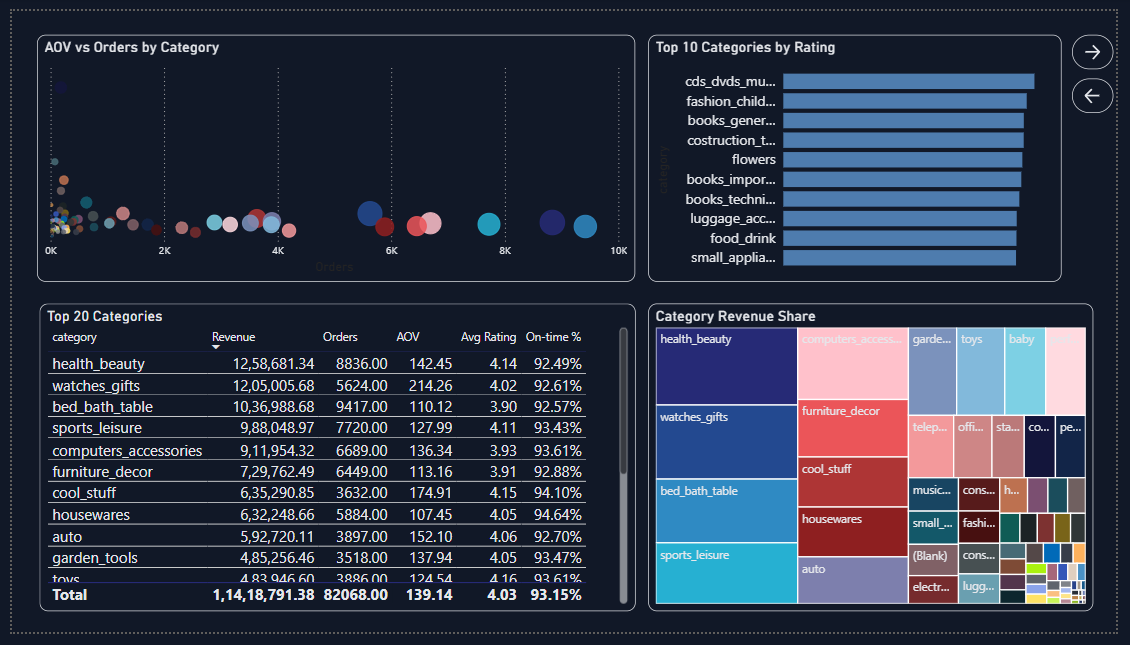

What the dashboard file says about the page in this screenshot:
{"tool":"powerbi","page":{"name":"Category & Product","canvas":[1280,720],"ordinal":3},"visuals":[{"type":"treemap","title":"Category Revenue Share","fields":{"Group":["public bi_fact_sales.category"],"Values":["public bi_fact_sales.Revenue"]},"box":[737.4,338.7,516,357.1],"z":0},{"type":"scatterChart","title":"AOV vs Orders by Category","fields":{"X":["public bi_fact_sales.Orders"],"Y":["public bi_fact_sales.AOV"],"Series":["public bi_fact_sales.category"],"Size":["public bi_fact_sales.Revenue"]},"box":[29.3,28.1,693.3,286.1],"z":1000},{"type":"barChart","title":"Top 10 Categories by Rating","fields":{"Y":["public bi_fact_sales.Avg Rating"],"Category":["public bi_fact_sales.category"]},"box":[737.4,28.1,479.4,286.1],"z":2000},{"type":"tableEx","title":"Top 20 Categories","fields":{"Values":["public bi_fact_sales.category","public bi_fact_sales.Revenue","public bi_fact_sales.Orders","public bi_fact_sales.AOV","public bi_fact_sales.Avg Rating","public bi_fact_sales.On-time %"]},"box":[31.8,338.7,690.9,357.1],"z":3000},{"type":"actionButton","box":[1228.9,28.1,47.7,40.4],"z":4000},{"type":"actionButton","box":[1228.9,78.3,47.7,40.4],"z":5000}]}

Visuals, with their boxes in screenshot pixels (x1, y1, x2, y2), scaled from the page's 1280x720 canvas onto the 1130x645 screenshot:
"Category Revenue Share" treemap: pyautogui.locateOnScreen(651, 303, 1107, 623)
"AOV vs Orders by Category" scatterChart: pyautogui.locateOnScreen(26, 25, 638, 281)
"Top 10 Categories by Rating" barChart: pyautogui.locateOnScreen(651, 25, 1074, 281)
"Top 20 Categories" tableEx: pyautogui.locateOnScreen(28, 303, 638, 623)
actionButton: pyautogui.locateOnScreen(1085, 25, 1127, 61)
actionButton: pyautogui.locateOnScreen(1085, 70, 1127, 106)
